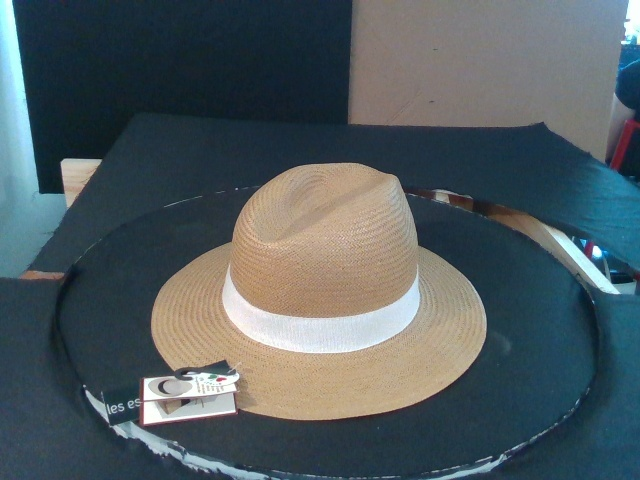hat: (149, 162, 489, 421)
